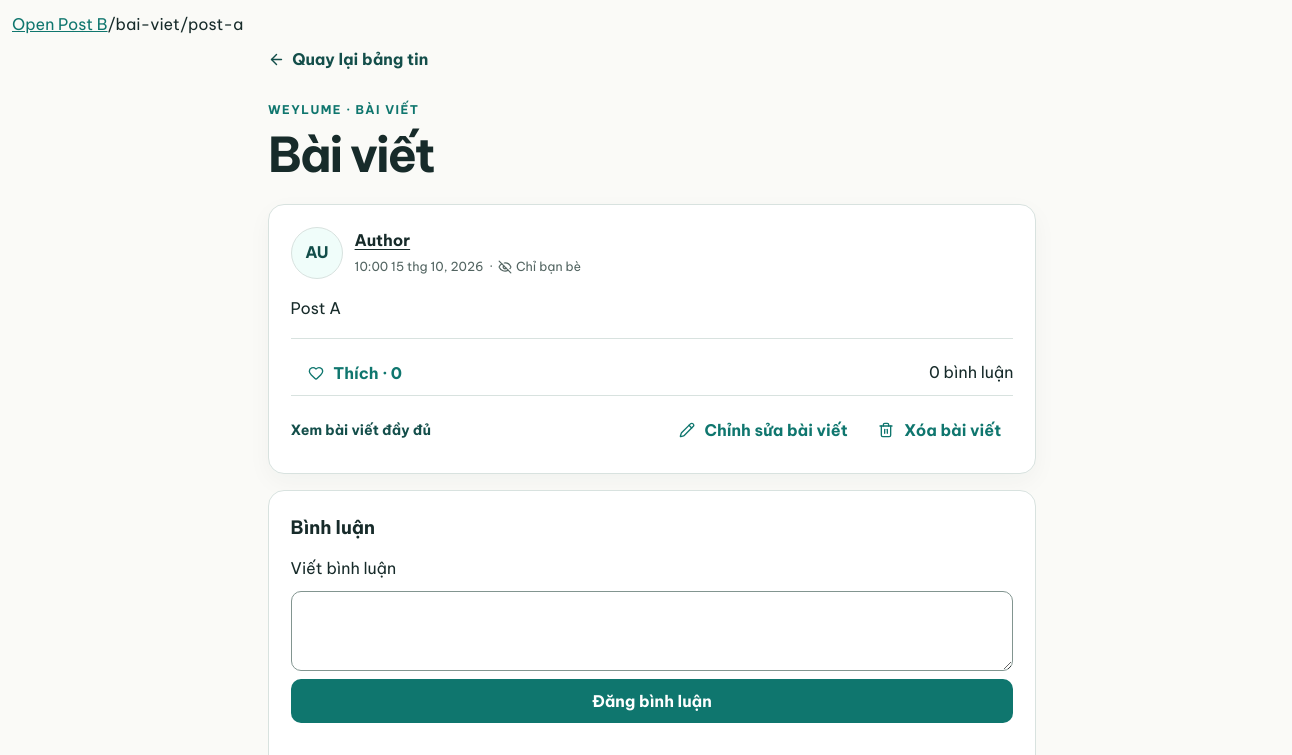
PostDetailPage route identity › keeps a comment draft after a stale 409 result
This screenshot has width=1292, height=755.
Expected: the text "Post A" is shown, [291,298,341,318]
In the text box labelled "Viết bình luận": (652, 630) [291,590,1013,670], type "Keep my draft"
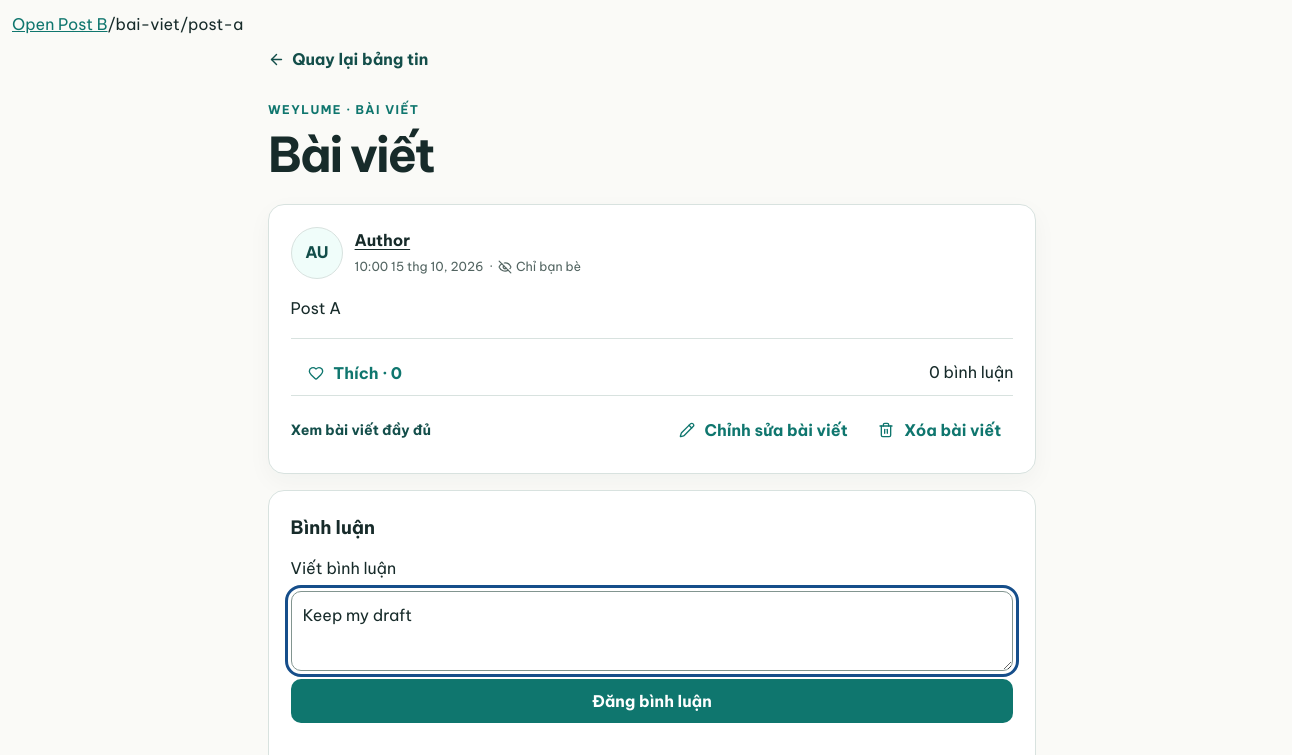
Click the button "Đăng bình luận": (652, 701) [291,679,1013,723]
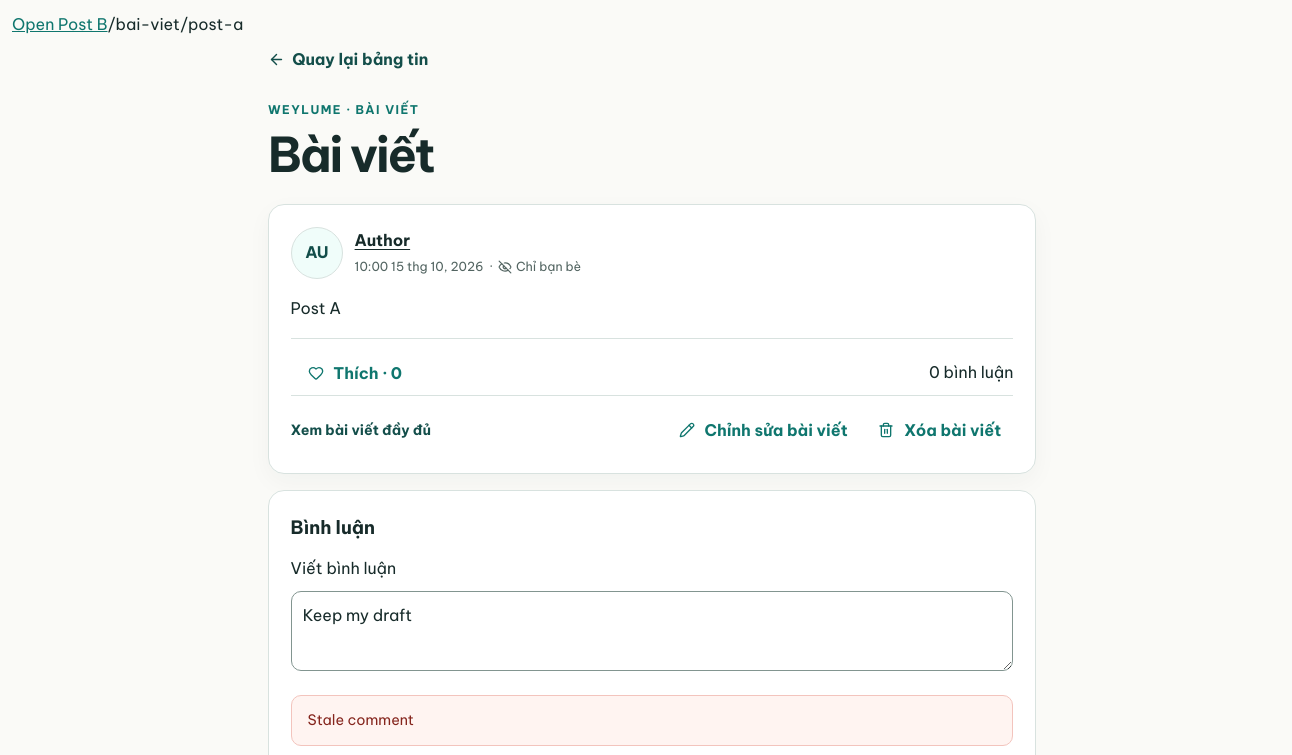
Now the text "Stale comment" is shown, box [291,695,1013,746]
